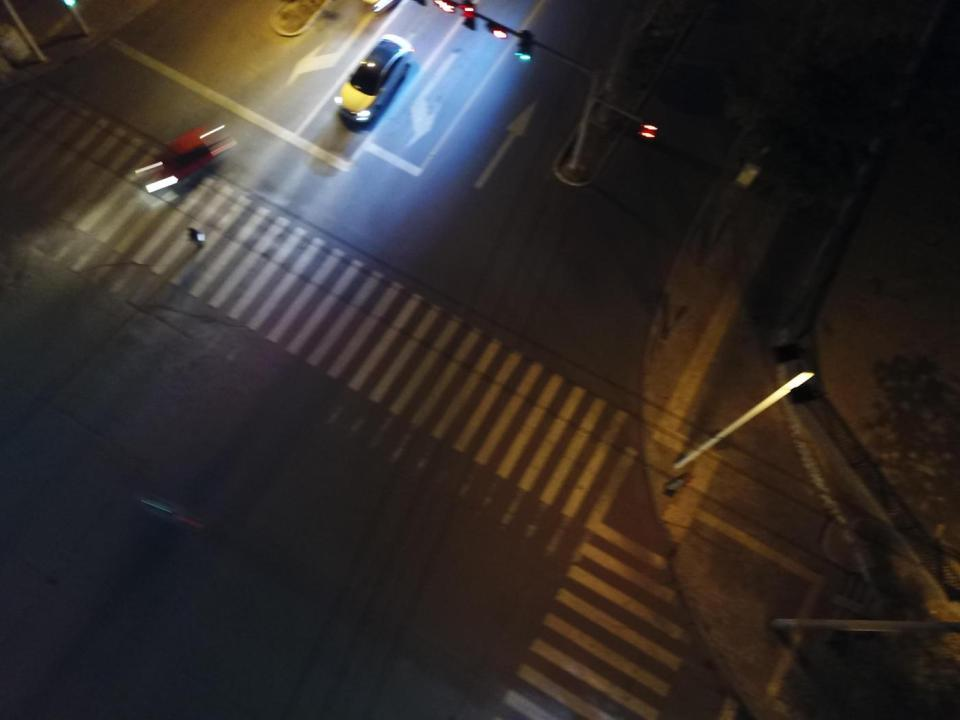car: (334, 32, 414, 134), (135, 123, 234, 193)
